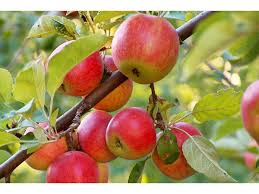tao: (107, 12, 186, 81), (155, 120, 218, 181), (40, 41, 103, 99), (108, 106, 154, 158)
